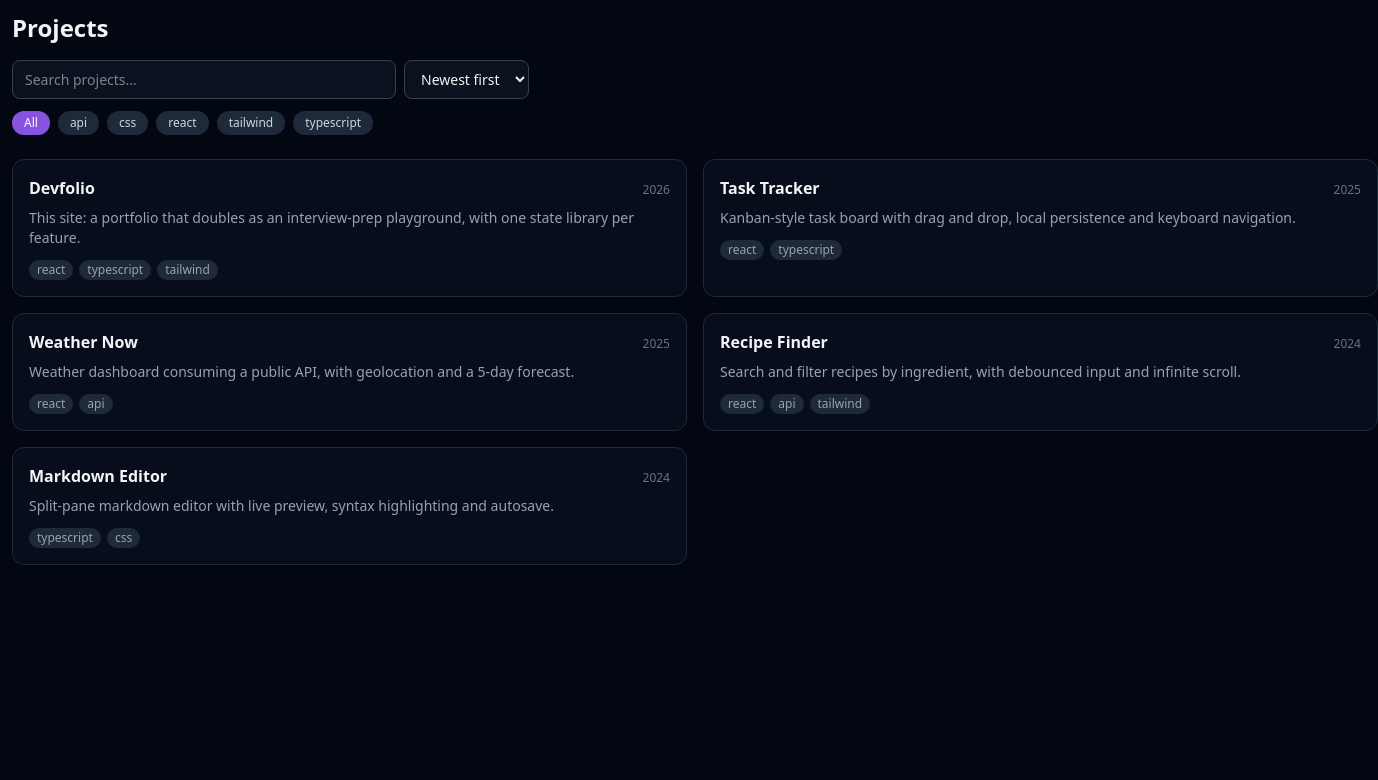
<ProjectsPage /> › shows an empty state when nothing matches
The width and height of the screenshot is (1378, 780).
Type "zzzz" into the search field at (204, 80), box [12,60,396,99]
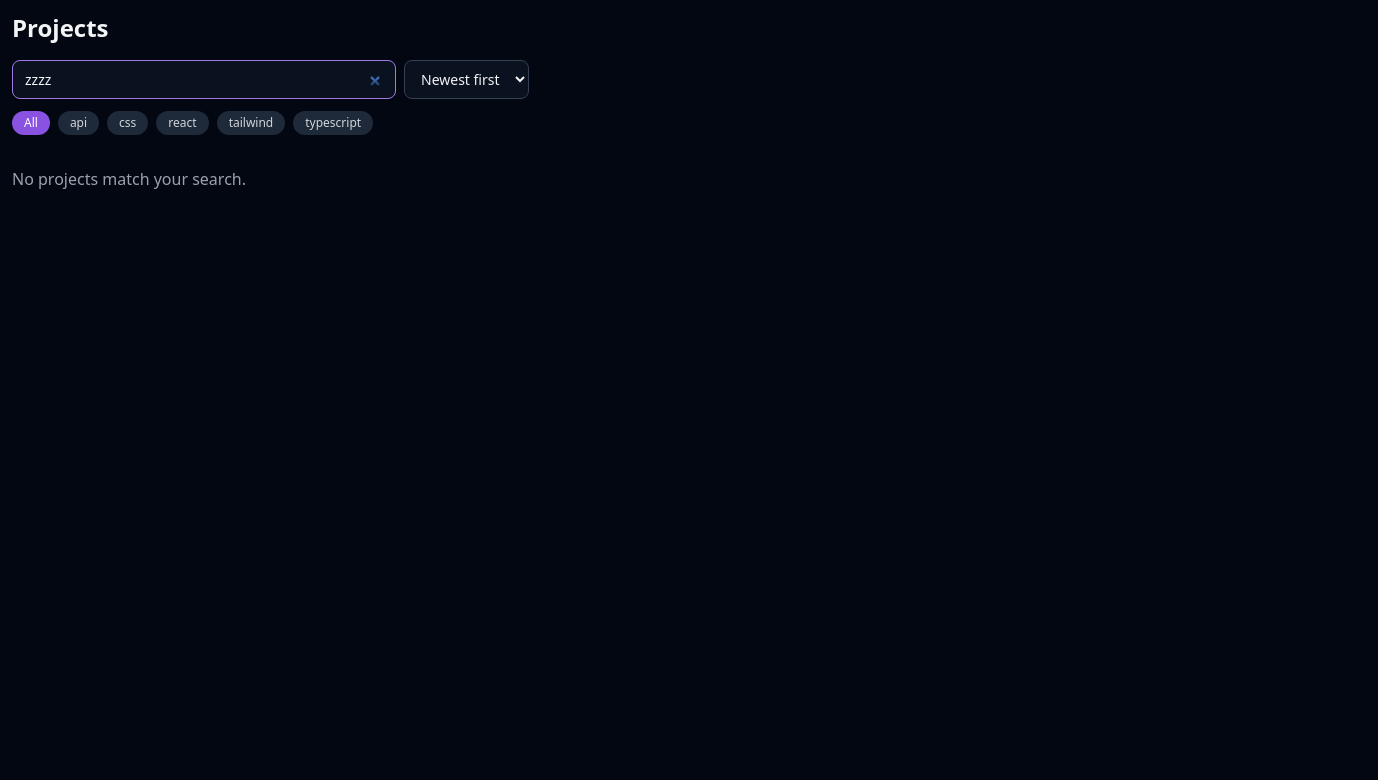
Now the text "No projects match your search." is shown, box [12,168,246,190]
